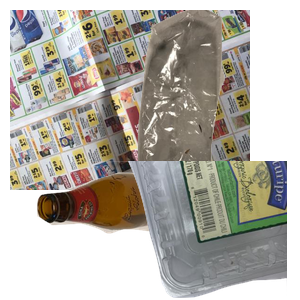glass: (34, 170, 223, 300)
paper: (10, 10, 250, 190)
plastic: (60, 161, 300, 300)
trash: (114, 10, 300, 190)
